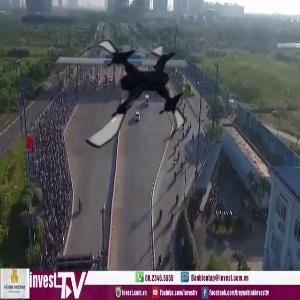drone: (65, 30, 196, 161)
